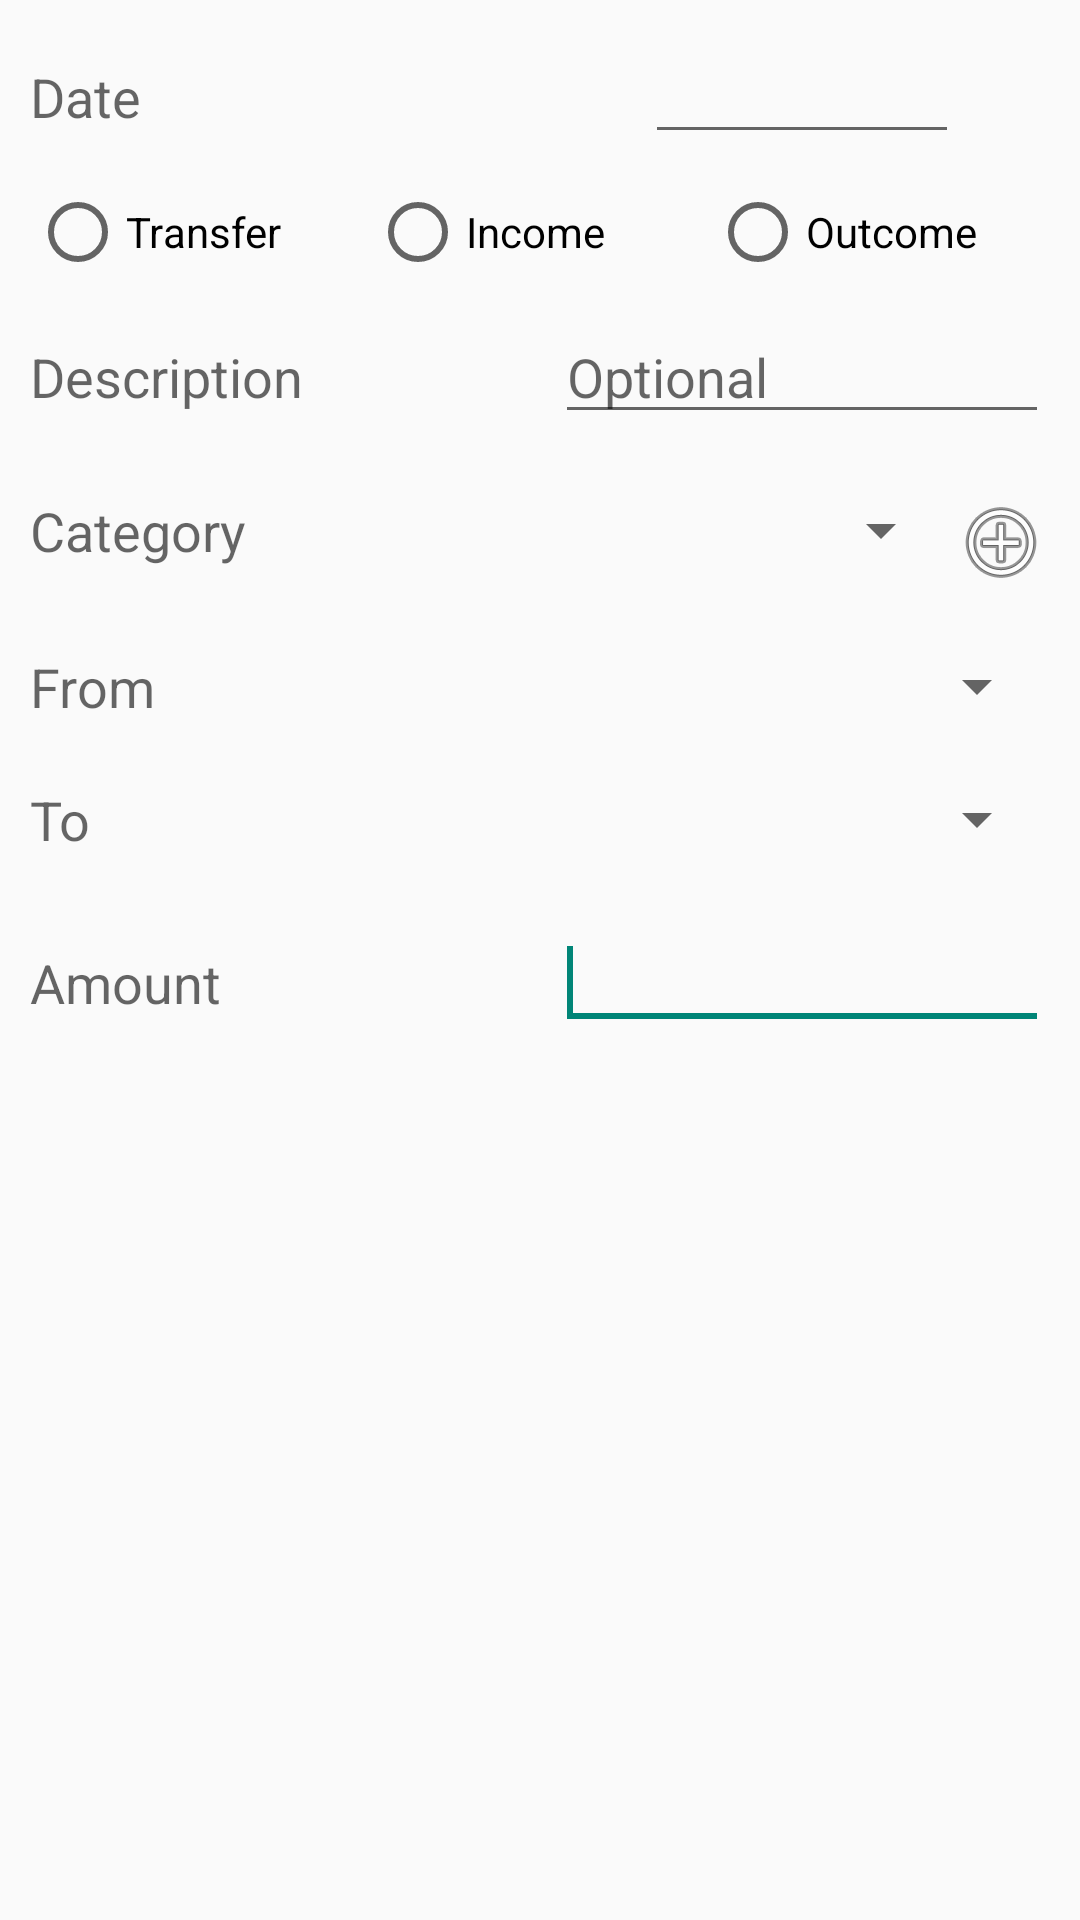

Icons on this 1080*1920 Android screen, each with its box as region(x1, y1, x2, y2):
Add category: region(965, 507, 1037, 578)
